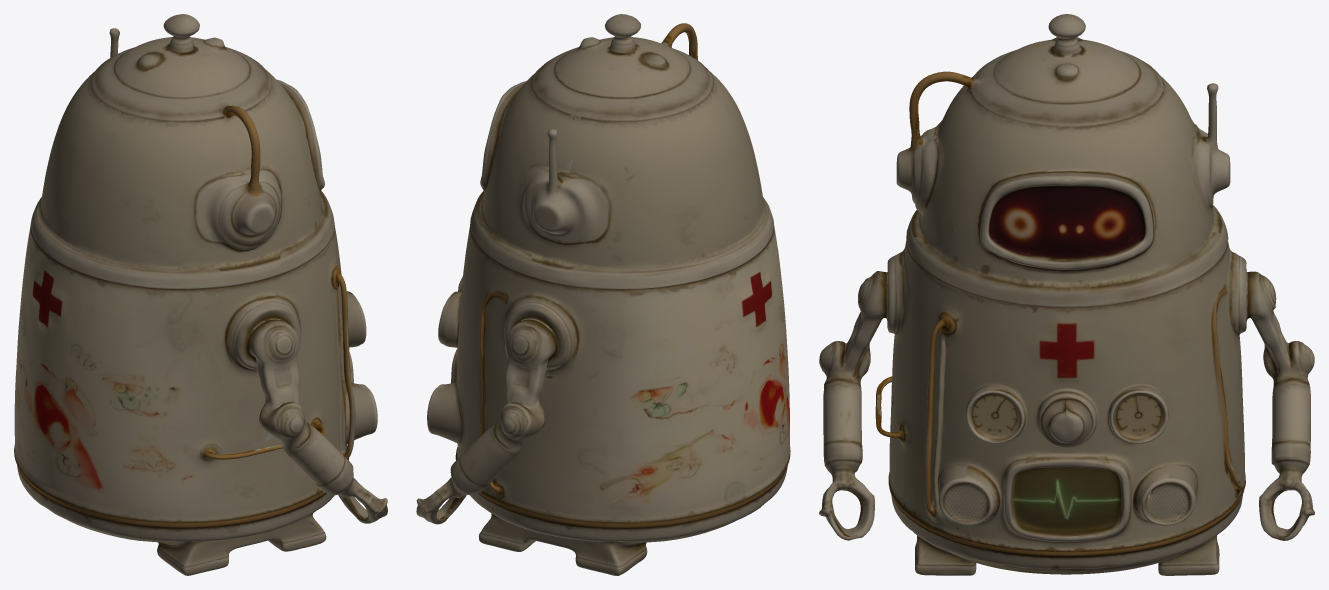
The model's file is Enemy-robot.fbx.
3 renders of one model, left to right at view 1: azimuth 30°, elevation 25°; view 2: azimuth 150°, elevation 25°; view 3: azimuth 270°, elevation 25°, orthographic. The views are drawn at different scales.
Visible parts, largest first — view 1: tripo_node_6d3ae0ac; view 2: tripo_node_6d3ae0ac; view 3: tripo_node_6d3ae0ac.
Part boxes in pixels (x1=…): tripo_node_6d3ae0ac: x1=14, y1=14, x2=387, y2=575; tripo_node_6d3ae0ac: x1=416, y1=14, x2=790, y2=575; tripo_node_6d3ae0ac: x1=819, y1=14, x2=1314, y2=575.
Bounding box in the file's own units: 0.6483 × 0.9998 × 0.8609.
Materials: 1 (1 with a texture image).
